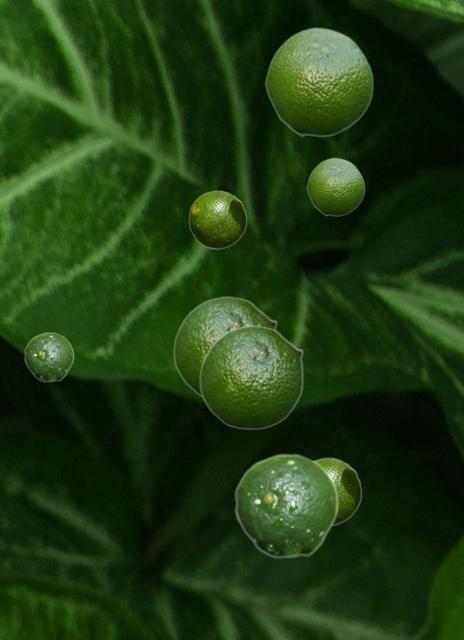calamansi: (264, 26, 373, 136), (234, 453, 338, 558), (199, 325, 303, 429), (173, 296, 277, 398), (306, 157, 364, 215), (188, 190, 246, 248), (315, 457, 361, 525), (24, 332, 73, 381)
